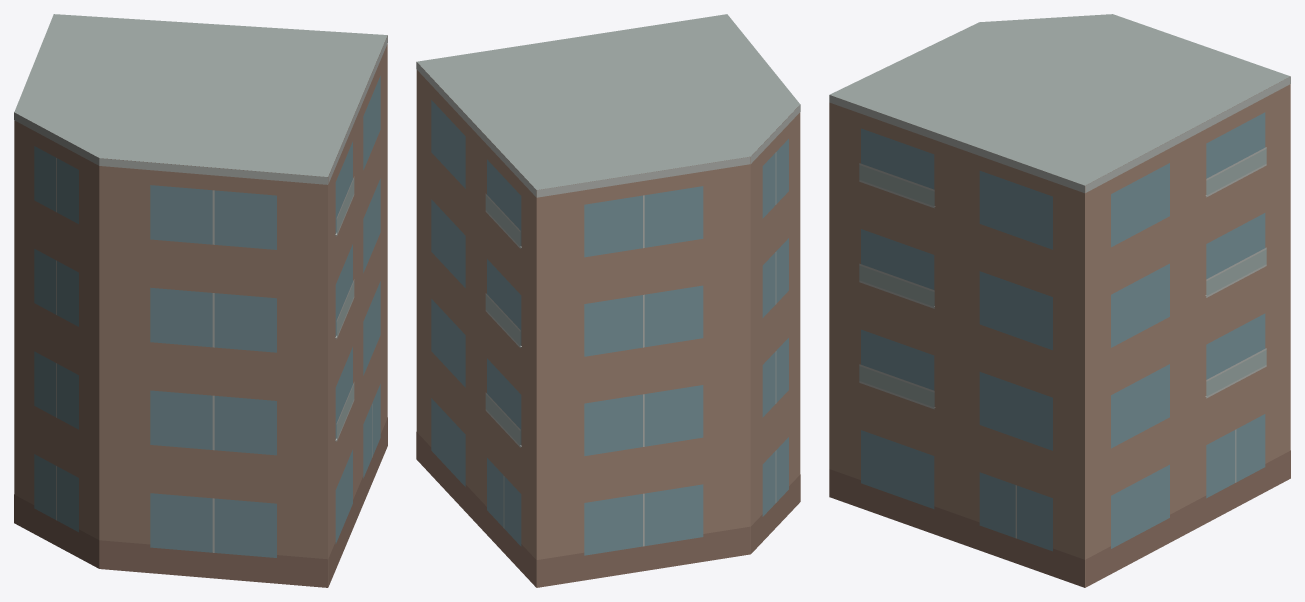
The model's file is survey-upis-32667555.glb.
3 renders of one model, left to right at view 1: azimuth 30°, elevation 25°; view 2: azimuth 150°, elevation 25°; view 3: azimuth 270°, elevation 25°, orthographic. The views are drawn at different scales.
Visible parts, largest first — view 1: survey-upis-32667555.tmp; view 2: survey-upis-32667555.tmp; view 3: survey-upis-32667555.tmp.
Part boxes in pixels (left/top/right/bottom): survey-upis-32667555.tmp: left=14, top=14, right=387, bottom=587; survey-upis-32667555.tmp: left=416, top=14, right=800, bottom=587; survey-upis-32667555.tmp: left=829, top=14, right=1290, bottom=587.
Bounding box in the file's own units: 11.73 × 12.8 × 13.32.
